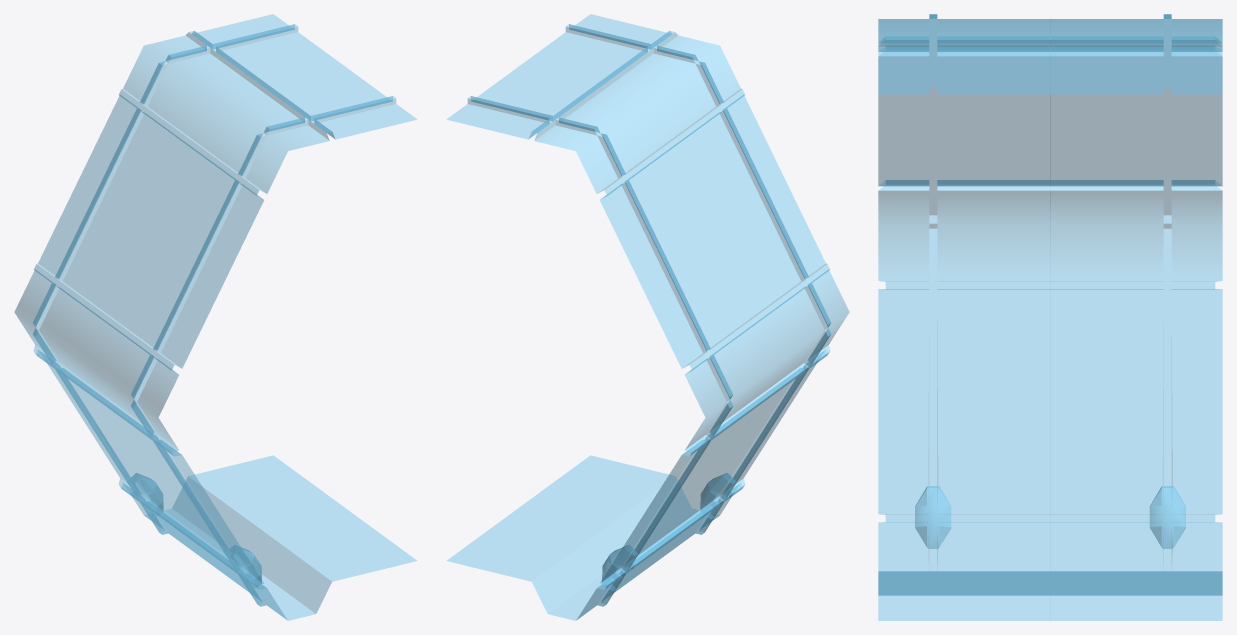
File: TubeHalf_002.FBX
3 views of the same model, side by side, from view 1: azimuth 30°, elevation 25°; view 2: azimuth 150°, elevation 25°; view 3: azimuth 270°, elevation 25° (orthographic). The views are drawn at different scales.
Parts seen in each view (by area): view 1: Parts007-005; view 2: Parts007-005; view 3: Parts007-005.
Boxes of the visible parts, x1=… form: Parts007-005: x1=14, y1=14, x2=416, y2=620; Parts007-005: x1=447, y1=14, x2=849, y2=620; Parts007-005: x1=878, y1=14, x2=1222, y2=620.
Size of the model in its own units: 245 by 424 by 233.
